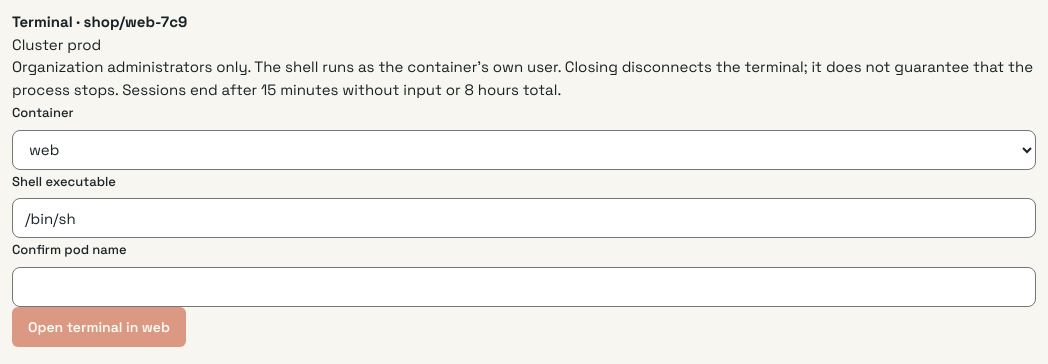
Test: asks container and shell, confirms the pod name and opens the pod exec route
The image size is (1048, 364).
Select "log" in the dropdown labelled "Container" at (524, 150), box [12,130,1036,170]
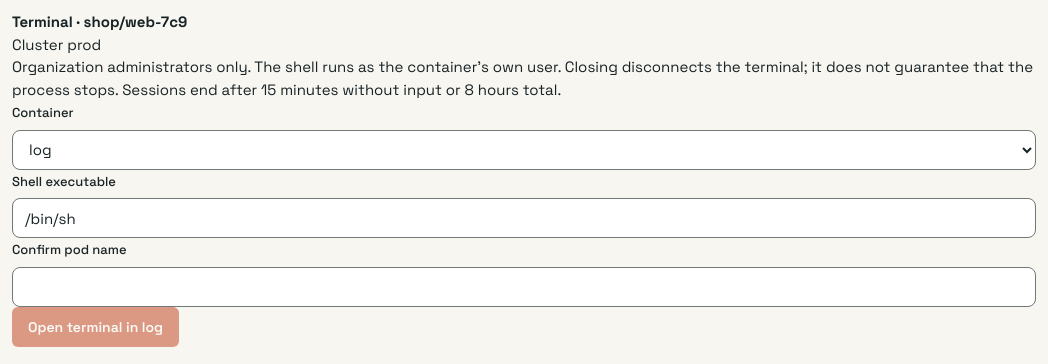
Replace the text in the field labelled "Shell executable" with "  /bin/bash " at (524, 218), box [12,198,1036,238]
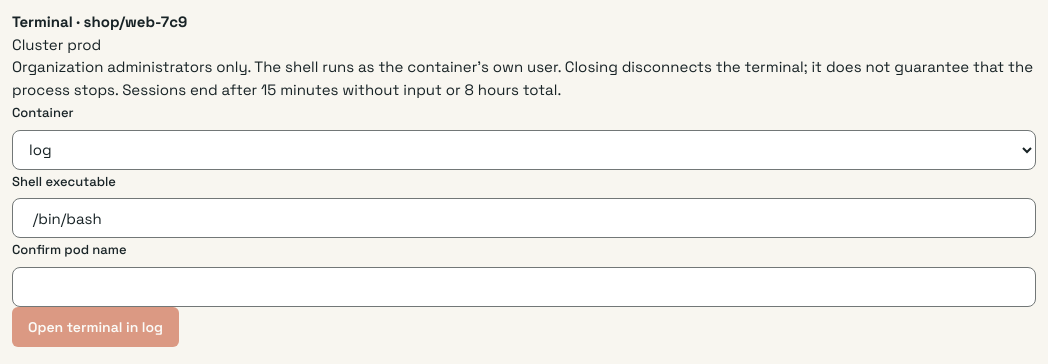
Expected: the button "Open terminal in log" is disabled, [12,306,179,346]
Type "web-7c9" into the field labelled "Confirm pod name".
click(524, 286); type("web-7c9")  # box [12,266,1036,306]
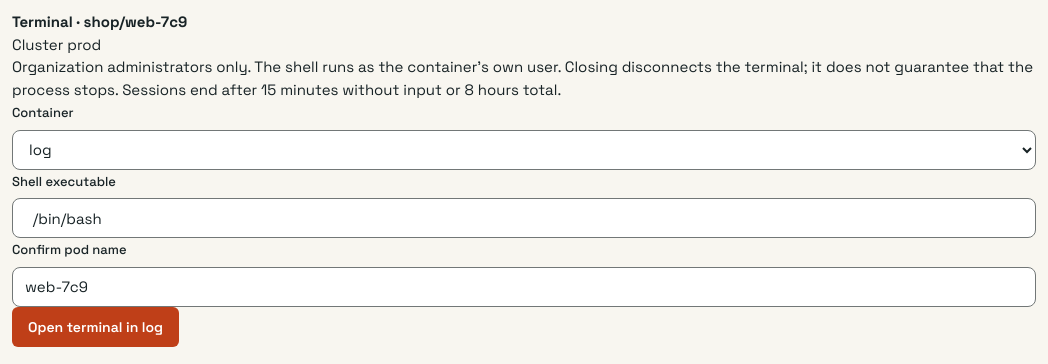
Click the button "Open terminal in log".
click(96, 326)  # box [12,306,179,346]
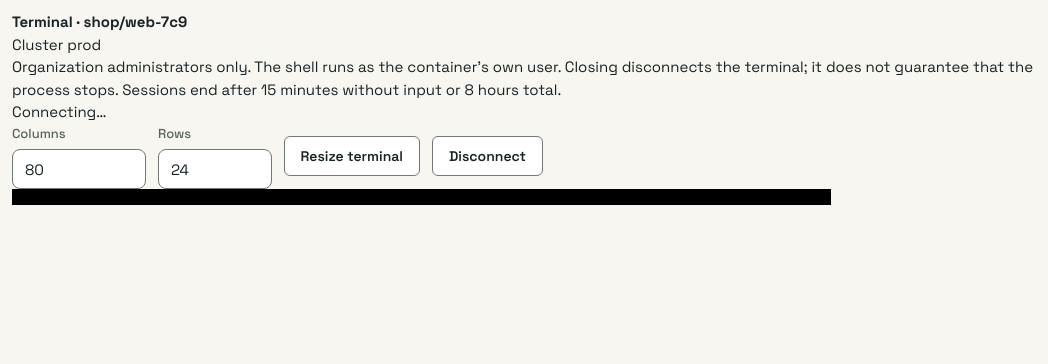
Expected: the element named "Pod terminal" is shown, [12,189,831,205]
